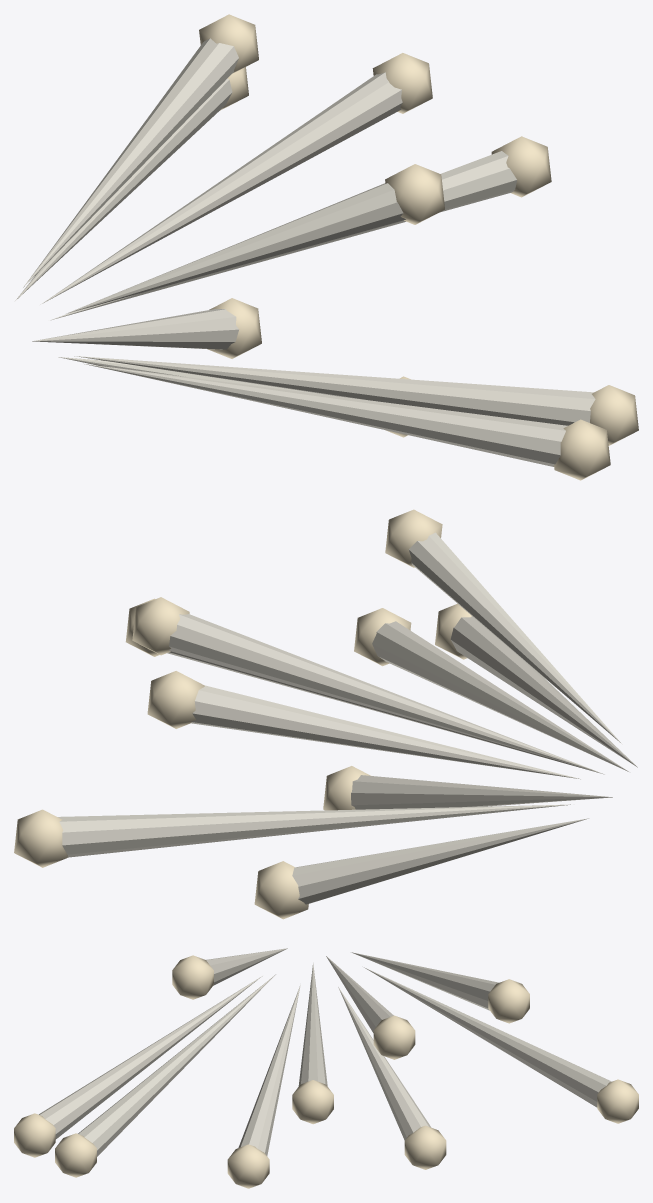
The model's file is cell.pili.glb.
3 renders of one model, top to bottom at view 1: azimuth 30°, elevation 25°; view 2: azimuth 150°, elevation 25°; view 3: azimuth 270°, elevation 25°, orthographic. The views are drawn at different scales.
Parts seen in each view (by area): view 1: Claw, StarchCore; view 2: Claw, StarchCore; view 3: Claw, StarchCore.
Part boxes in pixels (<box>): Claw: <box>14,38,595,466</box>; StarchCore: <box>199,14,638,480</box>; Claw: <box>58,532,637,904</box>; StarchCore: <box>14,509,471,919</box>; Claw: <box>39,948,611,1156</box>; StarchCore: <box>14,955,638,1188</box>.
Bounding box in the file's own units: 0.4098 × 0.2415 × 0.6106.
